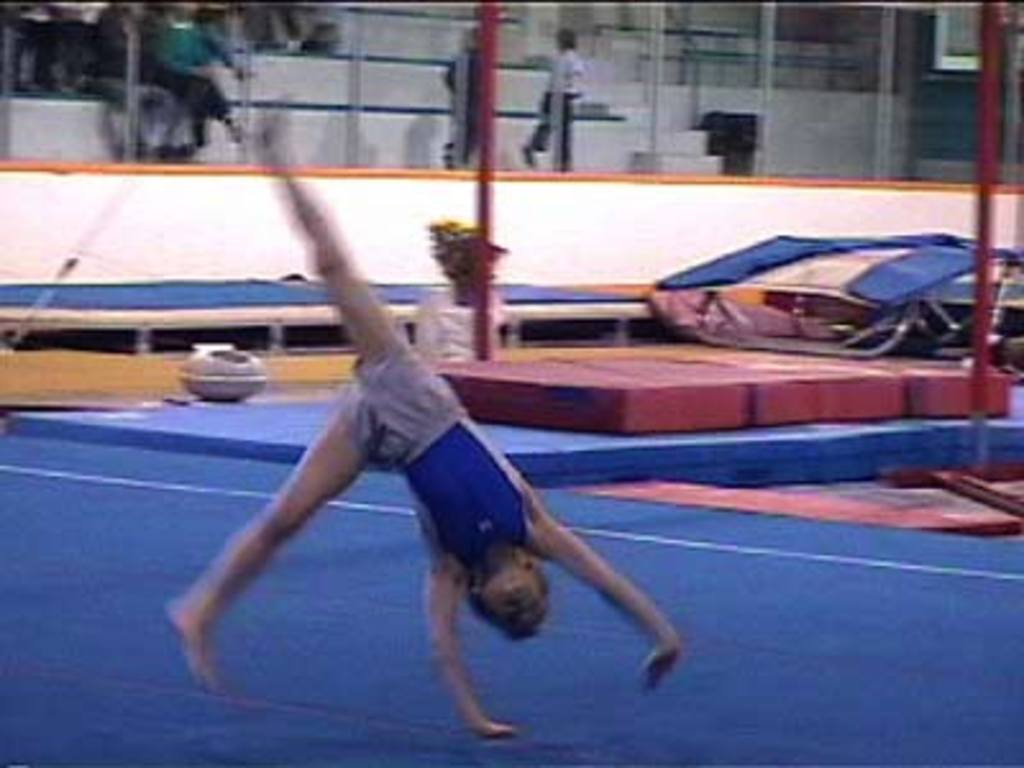Person: (0, 2, 681, 742)
